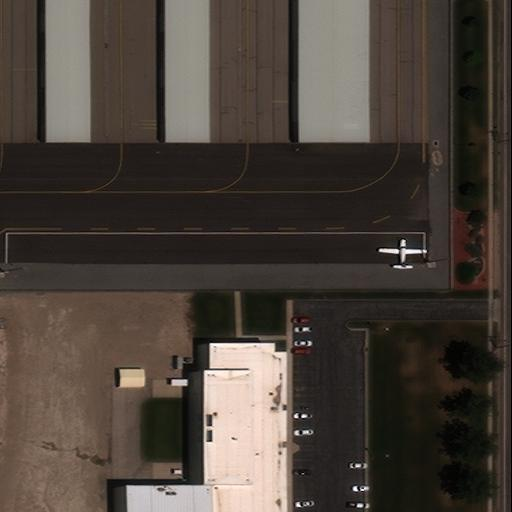Small Civil Transport: (378, 237, 426, 270)
